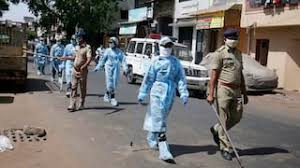mask: (159, 46, 173, 56), (226, 39, 238, 47), (109, 43, 114, 48)
